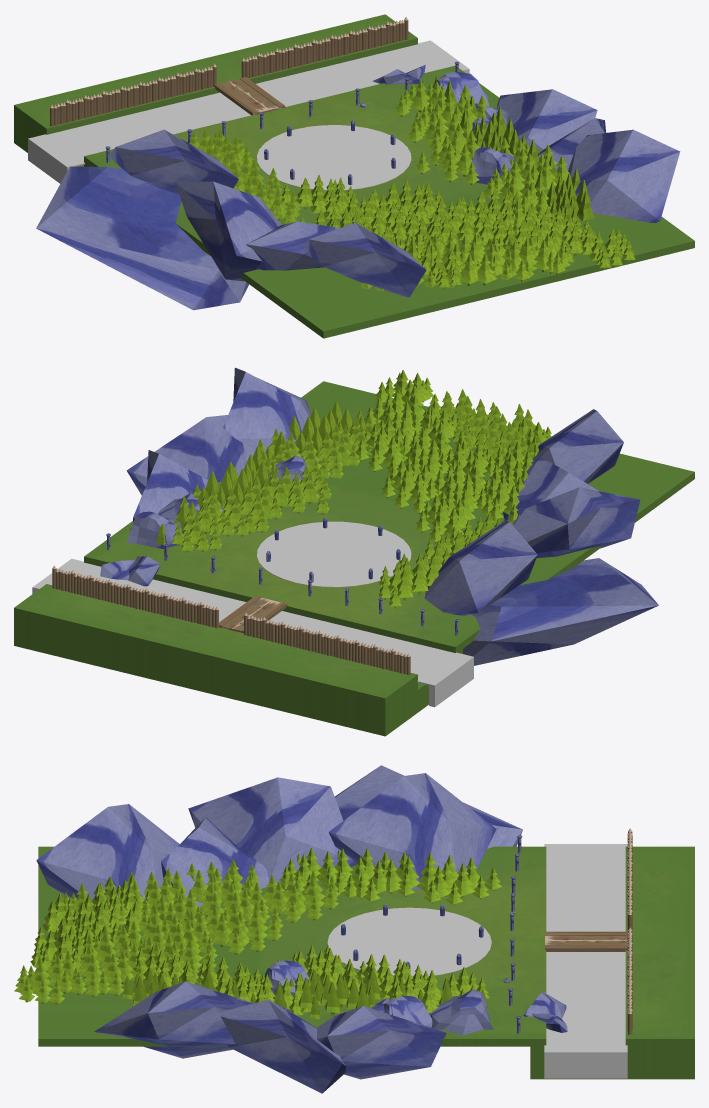
The model's file is Tig_Cullan_R1a.fbx.
The picture shows the model from 3 angles, top to bottom: view 1: azimuth 30°, elevation 25°; view 2: azimuth 150°, elevation 25°; view 3: azimuth 270°, elevation 25°; orthographic projection. The views are drawn at different scales.
Parts seen in each view (by area): view 1: ground, Icosphere.014, Plane, Icosphere.018, Fight Ring, Icosphere.005, Icosphere.013, Icosphere.003, Icosphere.019, Icosphere.004, Icosphere.016, Cube.008 (+2 smaller); view 2: ground, Icosphere.014, Fight Ring, Plane, Icosphere.003, Icosphere.005, Icosphere.018, Icosphere.016, Icosphere.013, Icosphere.019, Icosphere.004, Cube (+2 smaller); view 3: ground, Plane, Icosphere.003, Icosphere.005, Icosphere.013, Fight Ring, Icosphere.018, Icosphere.016, Icosphere.019, Icosphere.004, Icosphere.014, Cube (+5 smaller).
Boxes of the visible parts, x1,y1,x2,y2 form: ground: (14,14,694,338); Icosphere.014: (36,166,248,310); Plane: (28,40,469,183); Icosphere.018: (566,129,680,222); Fight Ring: (257,125,411,190); Icosphere.005: (175,181,281,281); Icosphere.013: (304,222,426,297); Icosphere.003: (108,129,238,194); Icosphere.019: (497,89,597,149); Icosphere.004: (246,221,339,270); Icosphere.016: (536,118,606,170); Cube.008: (472,147,514,184); ground: (14,381,694,736); Icosphere.014: (463,558,658,665); Fight Ring: (257,521,411,587); Plane: (32,558,473,707); Icosphere.003: (424,520,537,616); Icosphere.005: (513,487,640,557); Icosphere.018: (223,367,311,452); Icosphere.016: (126,415,255,495); Icosphere.013: (531,409,623,483); Icosphere.019: (133,450,208,521); Icosphere.004: (503,457,598,525); Cube: (127,511,182,548); ground: (38,846,694,1079); Plane: (544,844,627,1078); Icosphere.003: (328,773,496,890); Icosphere.005: (188,777,356,883); Icosphere.013: (36,804,179,900); Fight Ring: (327,907,491,976); Icosphere.018: (94,981,253,1058); Icosphere.016: (220,1000,346,1093); Icosphere.019: (316,1006,446,1079); Icosphere.004: (161,817,269,906); Icosphere.014: (335,765,522,848); Cube: (431,989,493,1035).
Size of the model in its own units: 40140 by 9879 by 40513.
